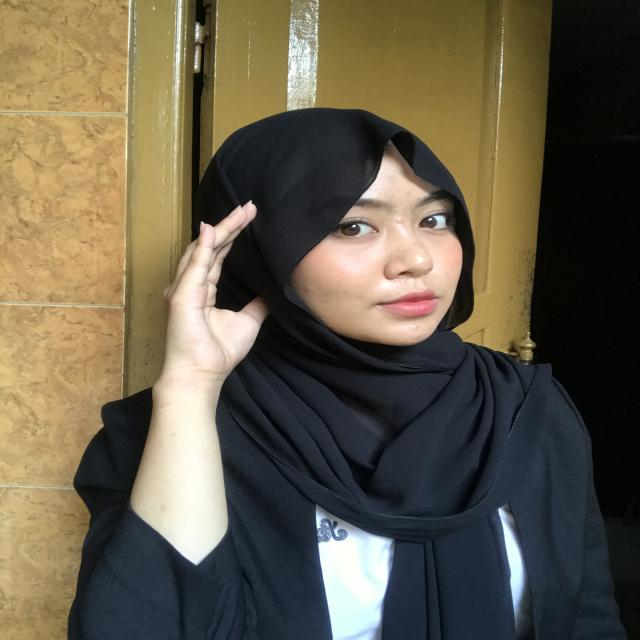mendengar: (163, 197, 273, 377)
